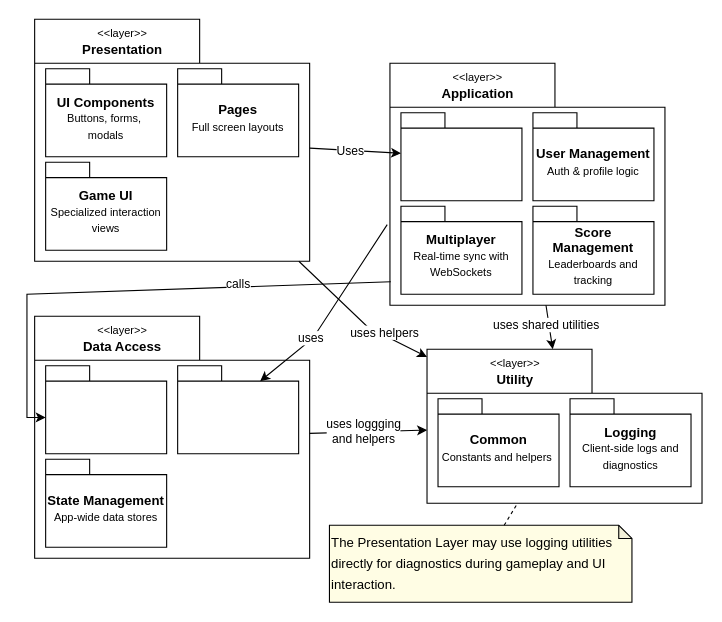
Some shapes in this 722 by 622 pixel diagram are drawn without their labels. The shapes that lost their labels are listed below. From the top down, each one's centre as x and y in pixels, then its label:
At [461,156]: "Game Logic Controls gameplay flow".
At [106,409]: "API Services REST interactions".
At [238,409]: "WebSocket Services Real-time data channels".
